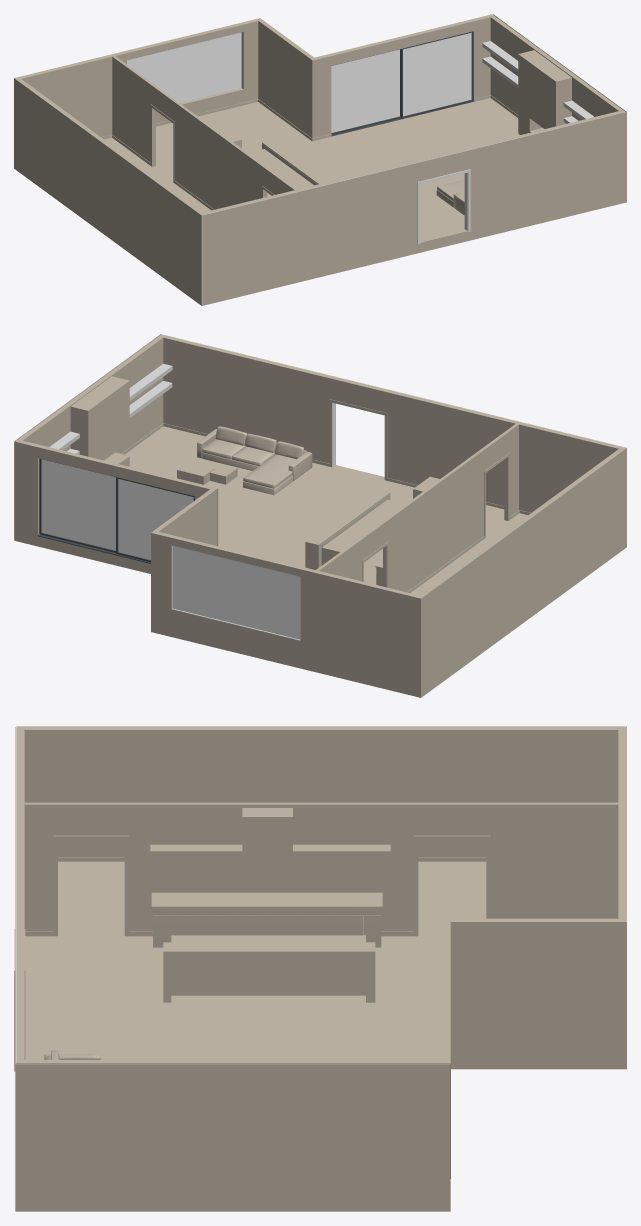
File: saska.glb
3 renders of one model, top to bottom at view 1: azimuth 30°, elevation 25°; view 2: azimuth 150°, elevation 25°; view 3: azimuth 270°, elevation 25°, orthographic. The views are drawn at different scales.
Visible parts, largest first — view 1: geo_walls_fireplace_63, geo_walls_3_11, geo_window_frame_127, geo_walls1_35, geo_48, Hotspot_geo_fireplace, Hotspot_geo__shelves_128, geo_window_glass_90, geo_door_frame_64; view 2: geo_walls_fireplace_63, geo_walls_3_11, geo_window_frame_127, geo_48, geo_walls1_35, Hotspot_geo_fireplace, Hotspot_geo__shelves_128, geo_window_glass_90, geo_door_frame_64; view 3: geo_walls_3_11, geo_walls_fireplace_63, geo_48, Hotspot_geo_air_vent, Hotspot_geo_fireplace.
Part boxes in pixels (left/top/right/bottom): geo_walls_fireplace_63: left=104, top=14, right=626, bottom=305; geo_walls_3_11: left=14, top=14, right=618, bottom=305; geo_window_frame_127: left=127, top=32, right=471, bottom=132; geo_walls1_35: left=112, top=21, right=312, bottom=209; geo_48: left=15, top=14, right=625, bottom=214; Hotspot_geo_fireplace: left=518, top=54, right=571, bottom=134; Hotspot_geo__shelves_128: left=482, top=41, right=593, bottom=123; geo_window_glass_90: left=331, top=31, right=473, bottom=136; geo_door_frame_64: left=417, top=169, right=470, bottom=244; geo_walls_fireplace_63: left=14, top=334, right=625, bottom=595; geo_walls_3_11: left=15, top=337, right=626, bottom=697; geo_window_frame_127: left=41, top=459, right=300, bottom=639; geo_48: left=15, top=334, right=625, bottom=598; geo_walls1_35: left=158, top=425, right=518, bottom=580; Hotspot_geo_fireplace: left=88, top=376, right=129, bottom=466; Hotspot_geo__shelves_128: left=49, top=363, right=172, bottom=454; geo_window_glass_90: left=38, top=458, right=194, bottom=563; geo_door_frame_64: left=171, top=403, right=335, bottom=640; geo_walls_3_11: left=16, top=726, right=626, bottom=1069; geo_walls_fireplace_63: left=15, top=727, right=618, bottom=1211; geo_48: left=16, top=726, right=626, bottom=1063; Hotspot_geo_air_vent: left=242, top=808, right=292, bottom=861; Hotspot_geo_fireplace: left=177, top=1048, right=298, bottom=1059.
Size of the model in its own units: 15.21 by 3.09 by 11.66.
